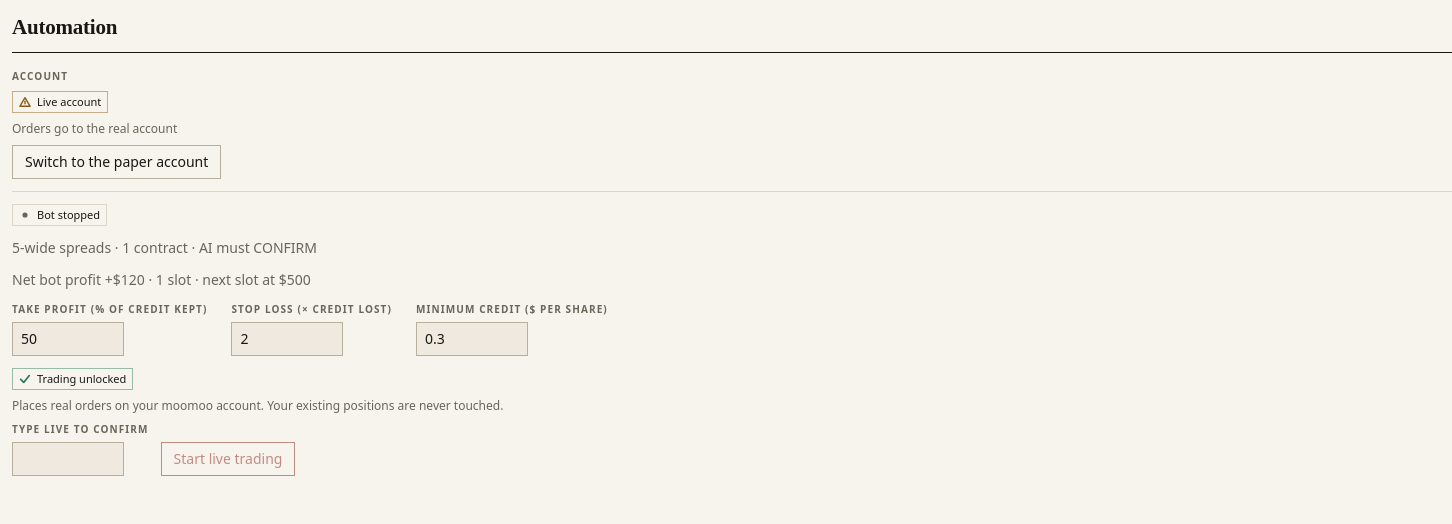
Test: AutomationPanel on the live account › does not announce a switch-on that was rejected
The width and height of the screenshot is (1452, 524).
Type "LIVE" into the field labelled "Type LIVE to confirm" at (68, 459), box [12, 442, 124, 476]
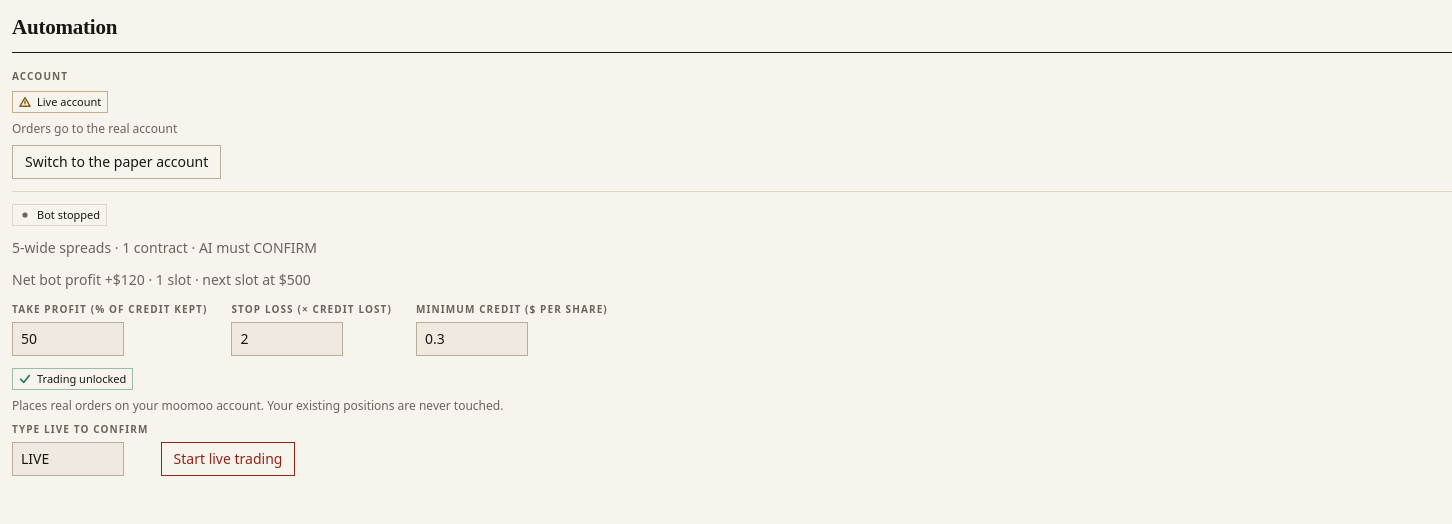
Click the button "Start live trading" at (228, 459), box [161, 442, 295, 476]
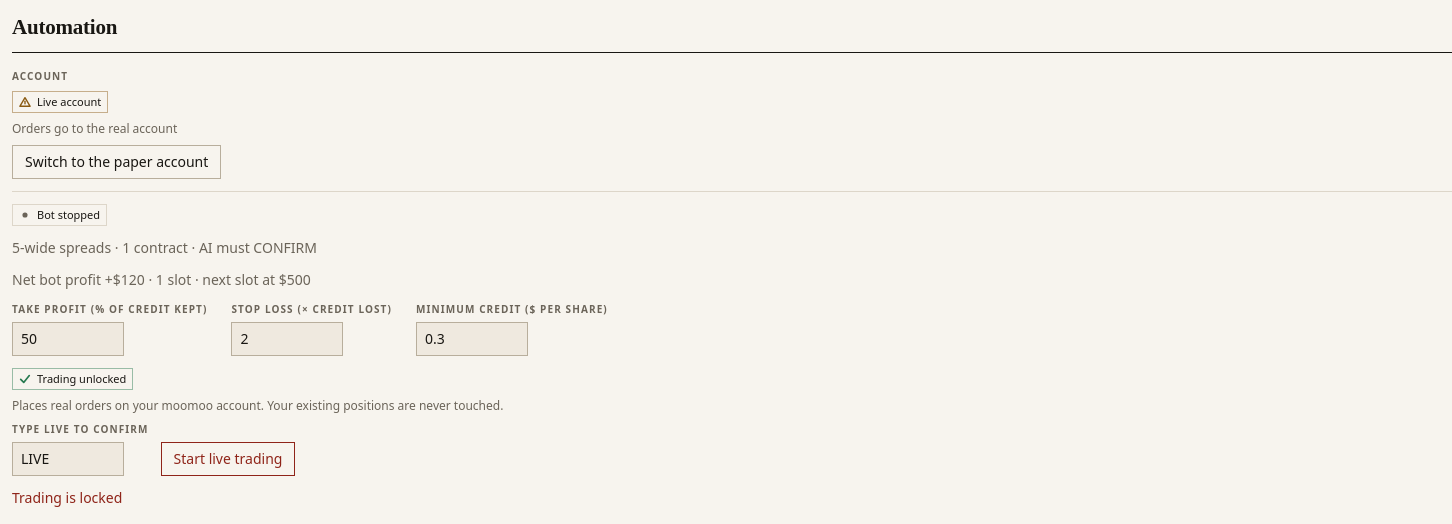
Result: the text "Trading is locked" is shown at [12, 488, 122, 507]
